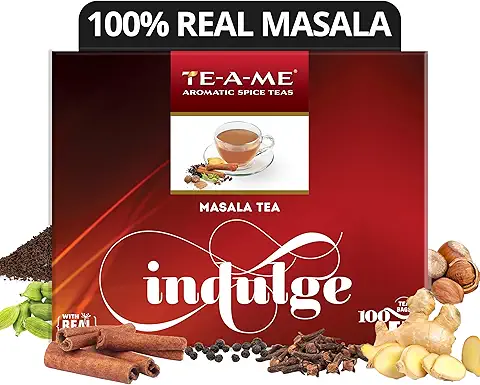Tea: (49, 51, 435, 365)
